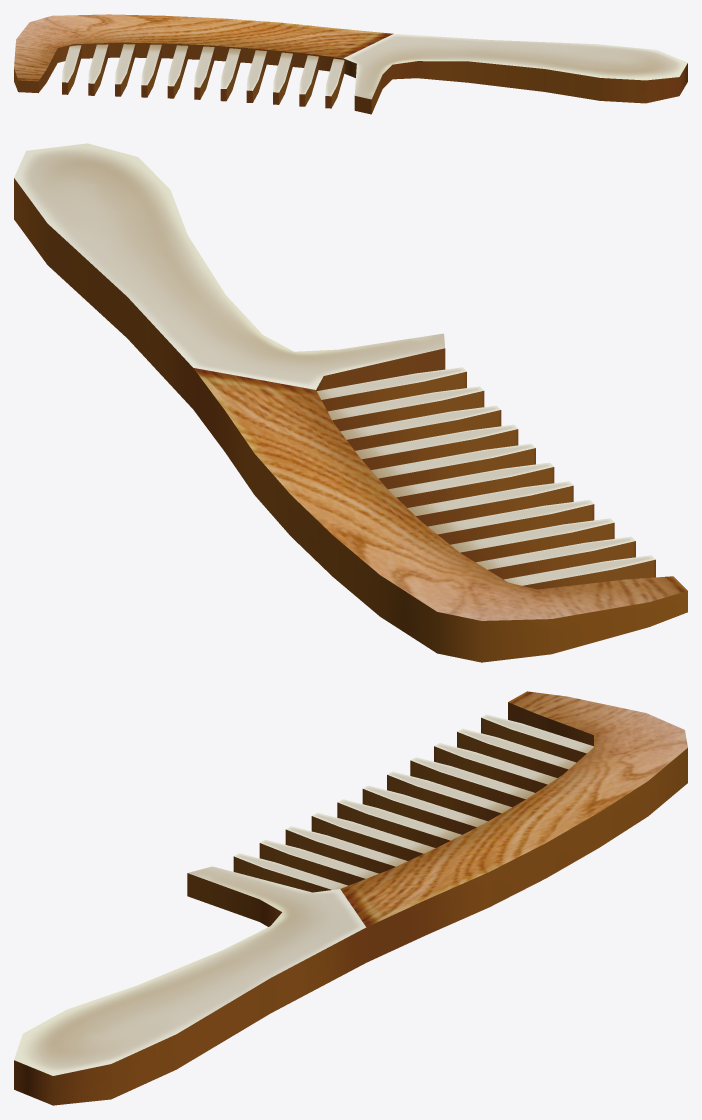
The model's file is G_XiuXiShi_01_shuzii_01.FBX.
3 views of the same model, one above another, from view 1: azimuth 30°, elevation 25°; view 2: azimuth 150°, elevation 25°; view 3: azimuth 270°, elevation 25° (orthographic). The views are drawn at different scales.
Visible parts, largest first — view 1: XiuXiShi_shuzi001; view 2: XiuXiShi_shuzi001; view 3: XiuXiShi_shuzi001.
Boxes of the visible parts, x1,y1,x2,y2 form: XiuXiShi_shuzi001: [14, 14, 687, 114]; XiuXiShi_shuzi001: [14, 143, 687, 662]; XiuXiShi_shuzi001: [14, 691, 687, 1105].
Bounding box in the file's own units: 78.65 × 3.35 × 57.39.
